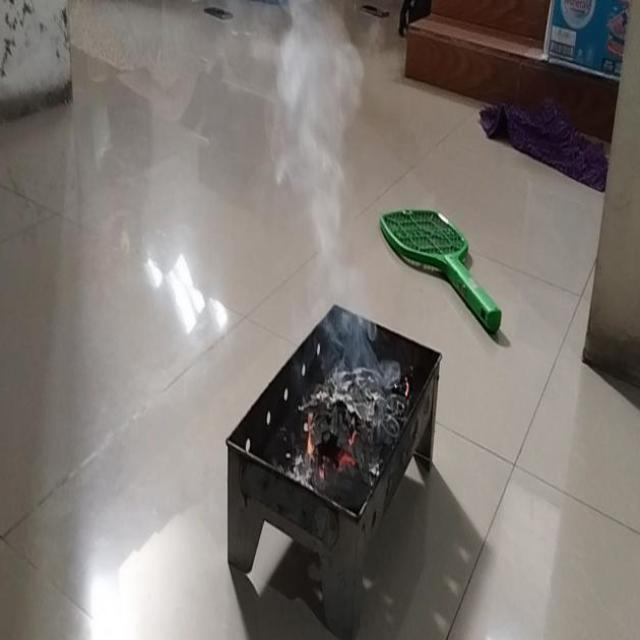fire: (268, 0, 367, 248), (321, 263, 380, 374)
